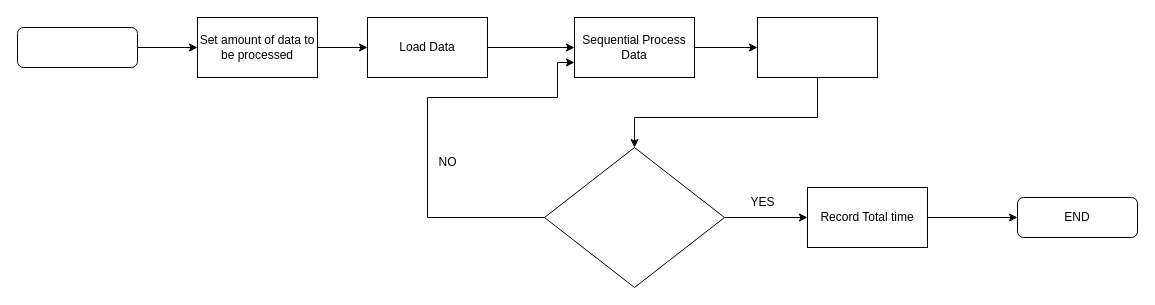
Some shapes in this 1155 by 305 pixel diagram are drawn without their labels. The box of each missing label's shape, as (x1, y1, x2, y2) in pixels:
Is all the data processed?: (544, 146, 724, 288)
Record Running time: (756, 16, 878, 78)
Start: (16, 26, 138, 68)
